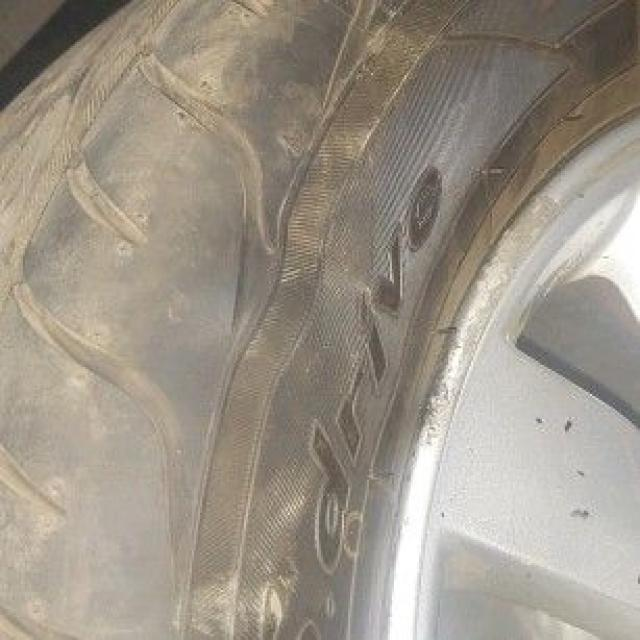Bulge: (195, 226, 343, 473)
